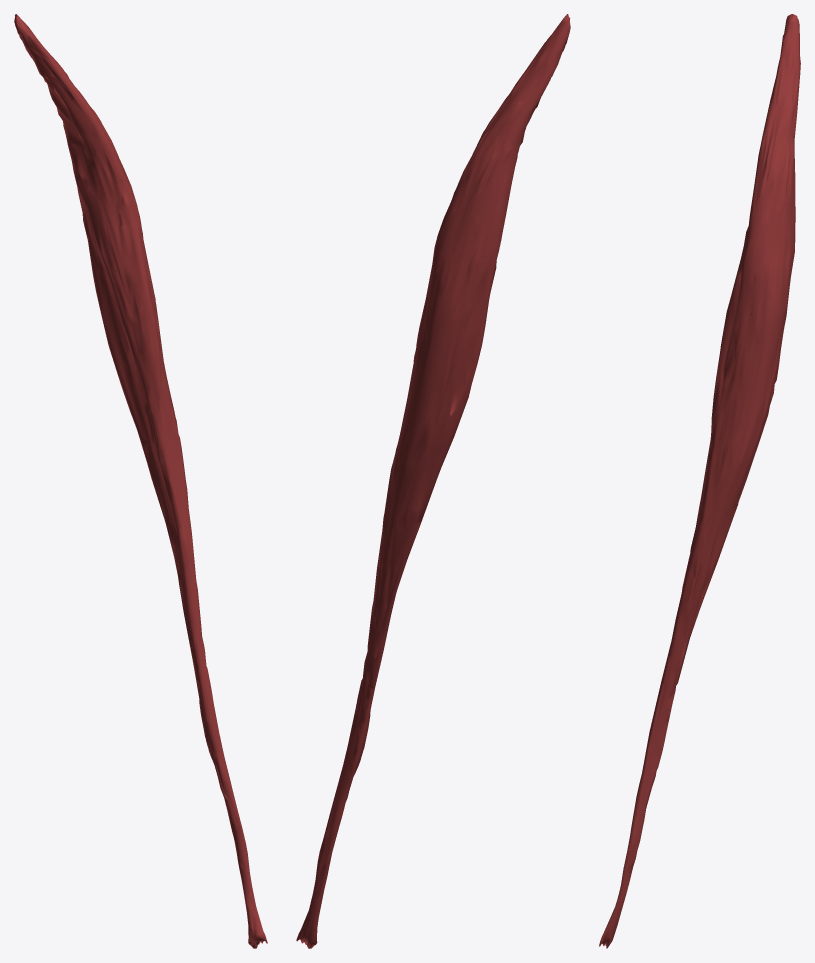
The model's file is extensor-carpi-radialis-longus-l.glb.
The picture shows the model from 3 angles, left to right: view 1: azimuth 30°, elevation 25°; view 2: azimuth 210°, elevation 25°; view 3: azimuth 270°, elevation 25°; orthographic projection. The views are drawn at different scales.
Visible parts, largest first — view 1: Extensor carpi radialis longus.l; view 2: Extensor carpi radialis longus.l; view 3: Extensor carpi radialis longus.l.
Boxes of the visible parts, x1,y1,x2,y2 form: Extensor carpi radialis longus.l: (14, 14, 267, 948); Extensor carpi radialis longus.l: (296, 14, 570, 948); Extensor carpi radialis longus.l: (599, 14, 800, 948).
Bounding box in the file's own units: 0.0597 × 0.3331 × 0.0702.
